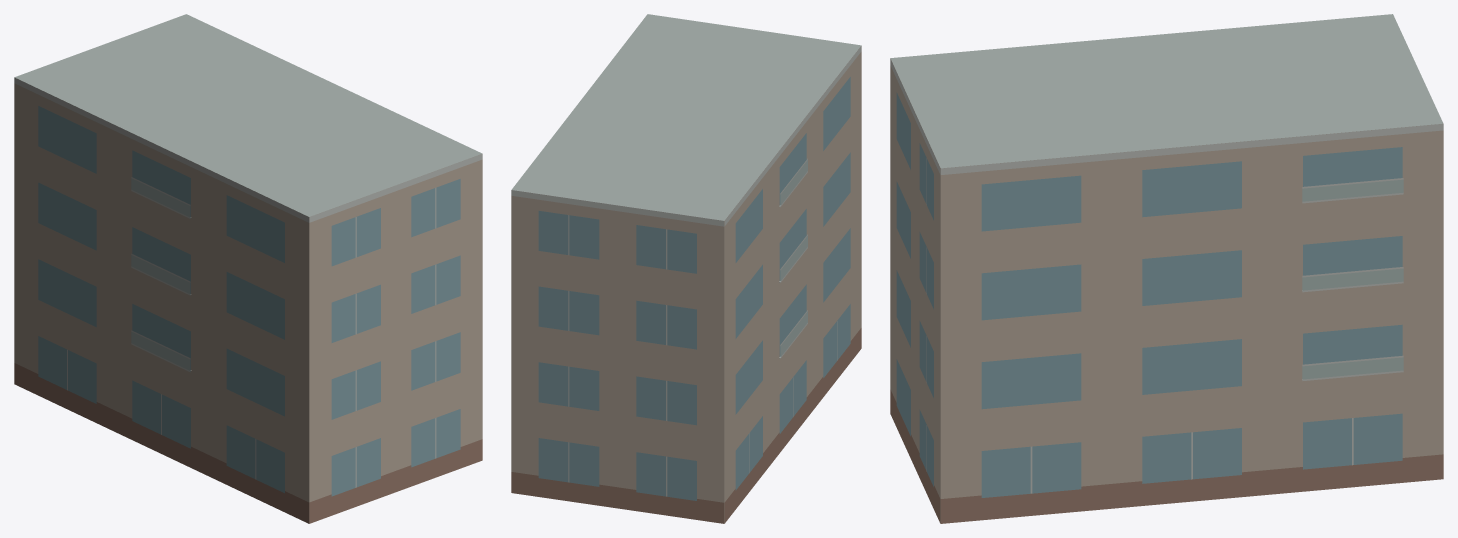
The model's file is survey-upis-32915872.glb.
3 views of the same model, side by side, from view 1: azimuth 30°, elevation 25°; view 2: azimuth 150°, elevation 25°; view 3: azimuth 270°, elevation 25° (orthographic). The views are drawn at different scales.
Visible parts, largest first — view 1: survey-upis-32915872.tmp; view 2: survey-upis-32915872.tmp; view 3: survey-upis-32915872.tmp.
Part boxes in pixels (x1=…): survey-upis-32915872.tmp: x1=14, y1=14, x2=482, y2=523; survey-upis-32915872.tmp: x1=511, y1=14, x2=861, y2=523; survey-upis-32915872.tmp: x1=890, y1=14, x2=1443, y2=523.
Bounding box in the file's own units: 11.93 × 12.8 × 18.06.
